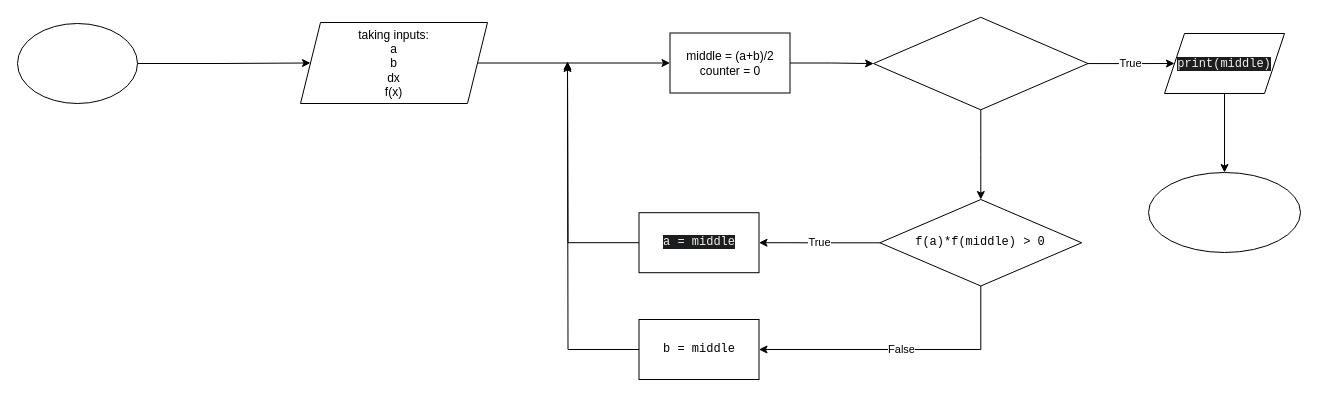
Some shapes in this 1318 by 398 pixel diagram are drawn without their labels. The centre of each missing label's shape, as x and y in pixels:
"ende" belongs at (x=1224, y=212).
"Start" belongs at (x=77, y=63).
"|f(middle)|<= presision" belongs at (x=980, y=63).
